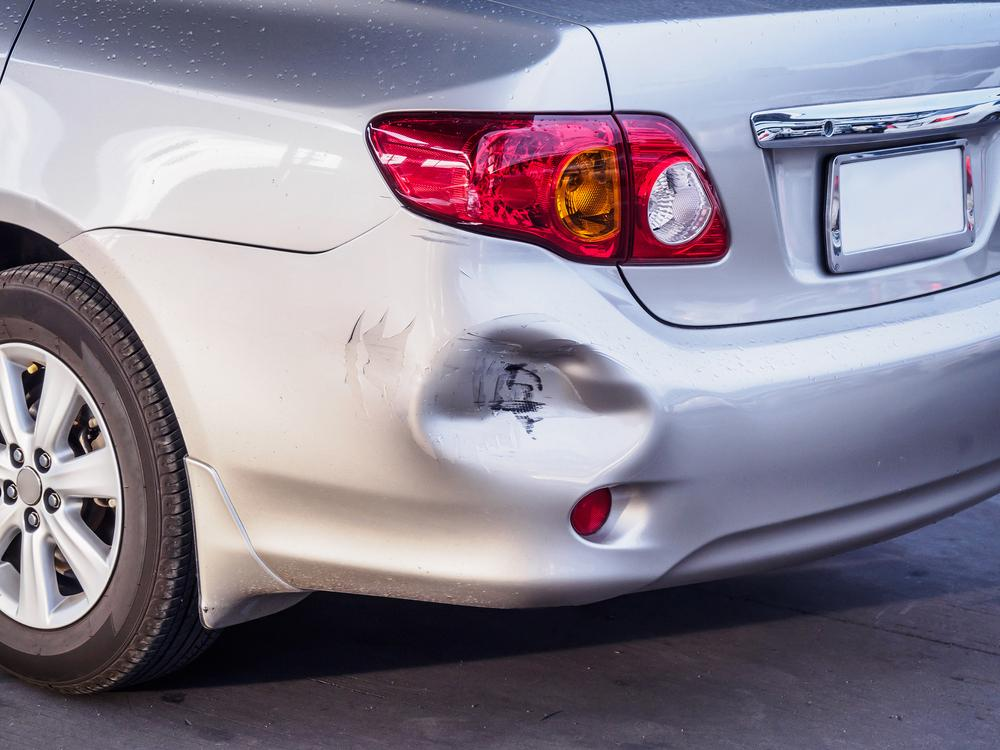dent: (419, 330, 652, 484)
scratch: (343, 303, 415, 416)
